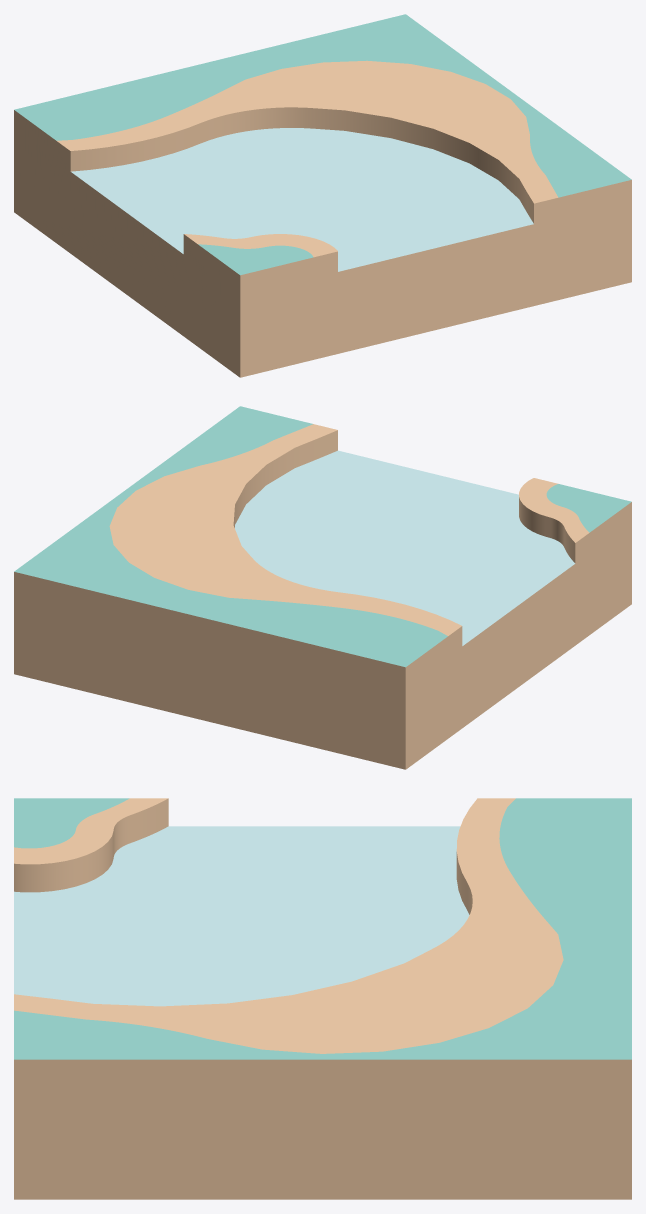
File: ground_dirtRiverCornerBank.glb
The picture shows the model from 3 angles, top to bottom: view 1: azimuth 30°, elevation 25°; view 2: azimuth 150°, elevation 25°; view 3: azimuth 270°, elevation 25°; orthographic projection. The views are drawn at different scales.
Visible parts, largest first — view 1: ground_dirtRiverCornerBank; view 2: ground_dirtRiverCornerBank; view 3: ground_dirtRiverCornerBank.
Part boxes in pixels (box(x1,y1,x2,y2)): ground_dirtRiverCornerBank: box(14, 14, 631, 377); ground_dirtRiverCornerBank: box(14, 406, 631, 769); ground_dirtRiverCornerBank: box(14, 798, 631, 1199).
Size of the model in its own units: 10 by 2.5 by 10.
